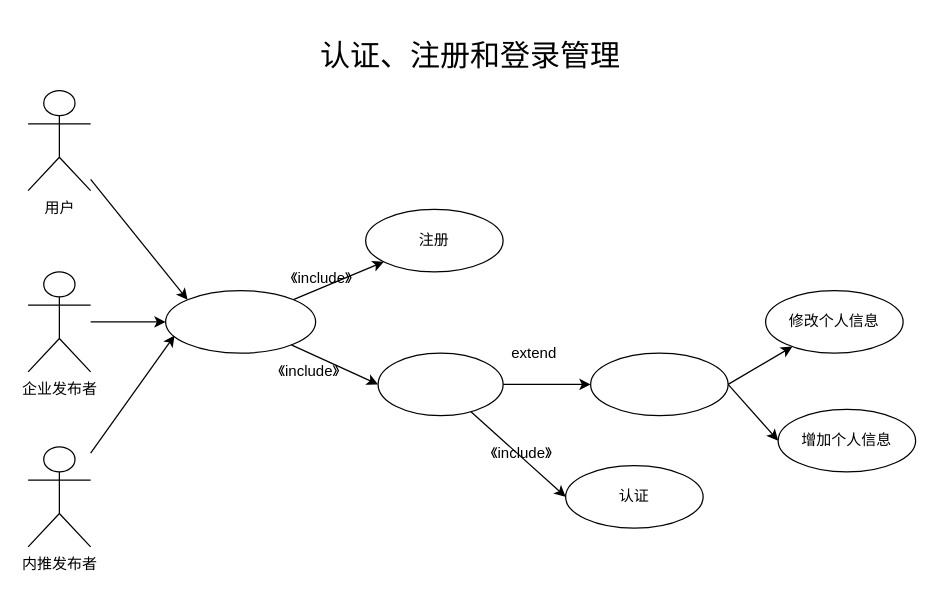
The diagram is 938 pixels wide and 594 high, and some of its shapes have lost their labels. The shapes that lost their labels are listed below. From the top down, each one's centre as x and y in pixels, then its label:
At point 240,321: "认证、注册和登录 管理".
At point 440,384: "登录".
At point 658,384: "个人信息管理".
